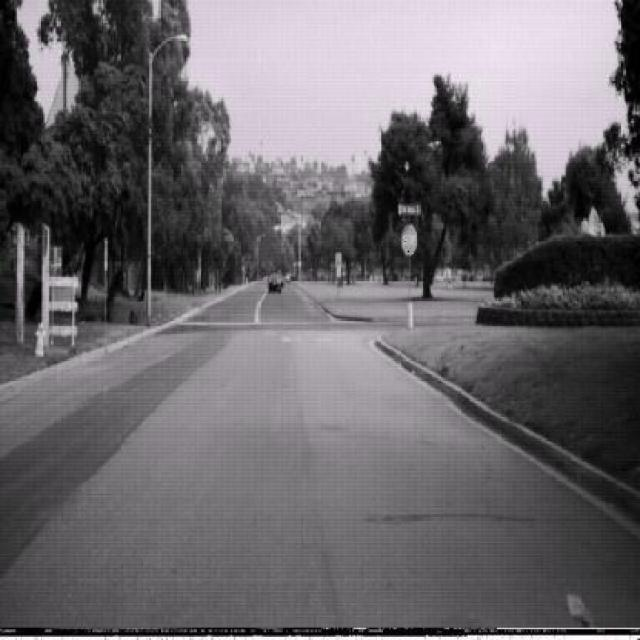stop: (400, 222, 417, 256)
